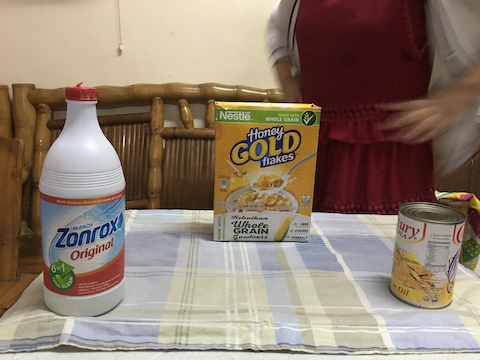bottle: (36, 81, 132, 319)
box: (208, 99, 323, 244)
can: (387, 198, 469, 312)
